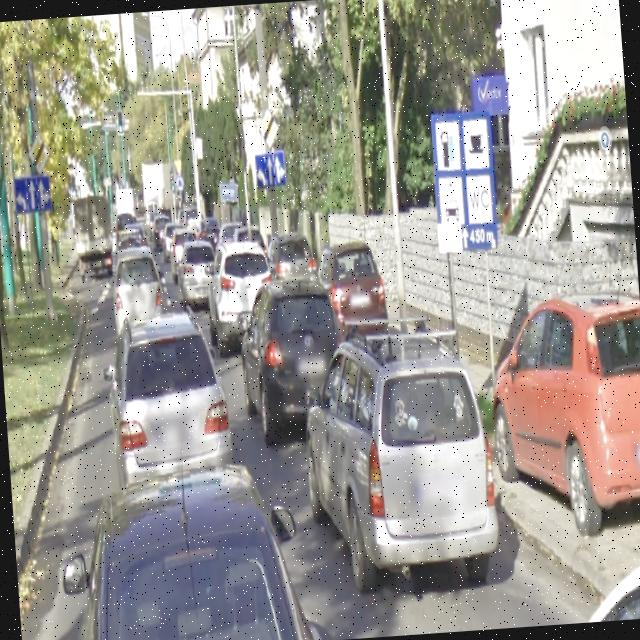Ustap pierwszenstwa: (172, 157, 182, 175)
